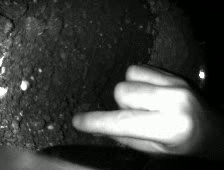corn: (19, 77, 31, 92)
